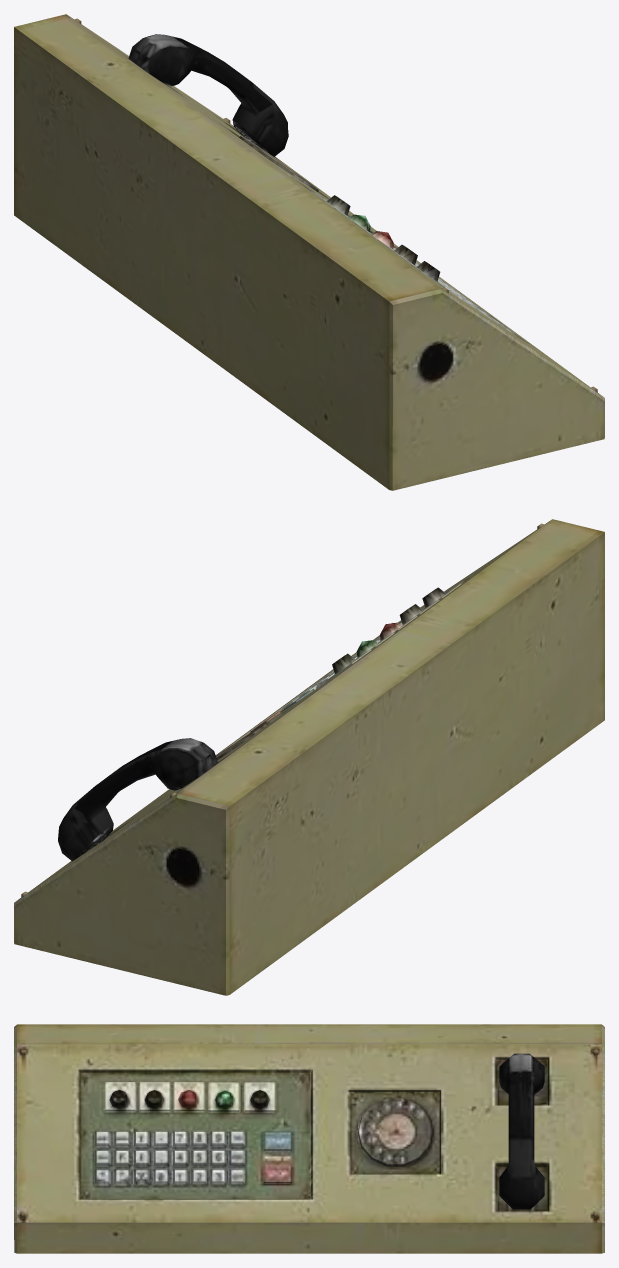
The model's file is desk_console1.glb.
The picture shows the model from 3 angles, top to bottom: view 1: azimuth 30°, elevation 25°; view 2: azimuth 150°, elevation 25°; view 3: azimuth 270°, elevation 25°; orthographic projection. The views are drawn at different scales.
Visible parts, largest first — view 1: 1_desk_console2, 0_desk_console1; view 2: 1_desk_console2, 0_desk_console1; view 3: 0_desk_console1, 1_desk_console2.
Part boxes in pixels (<box>): 1_desk_console2: <box>14,14,604,490</box>; 0_desk_console1: <box>69,16,601,395</box>; 1_desk_console2: <box>14,519,604,995</box>; 0_desk_console1: <box>17,520,550,900</box>; 0_desk_console1: <box>17,1044,601,1222</box>; 1_desk_console2: <box>14,1024,604,1253</box>.
Bounding box in the file's own units: 0.4136 × 0.3459 × 1.24.
Materials: 2 (2 with a texture image).
